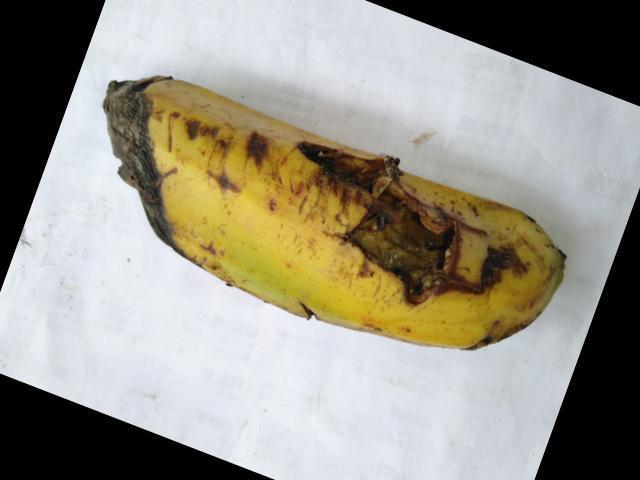rotten: (254, 125, 535, 345), (90, 42, 195, 281)
